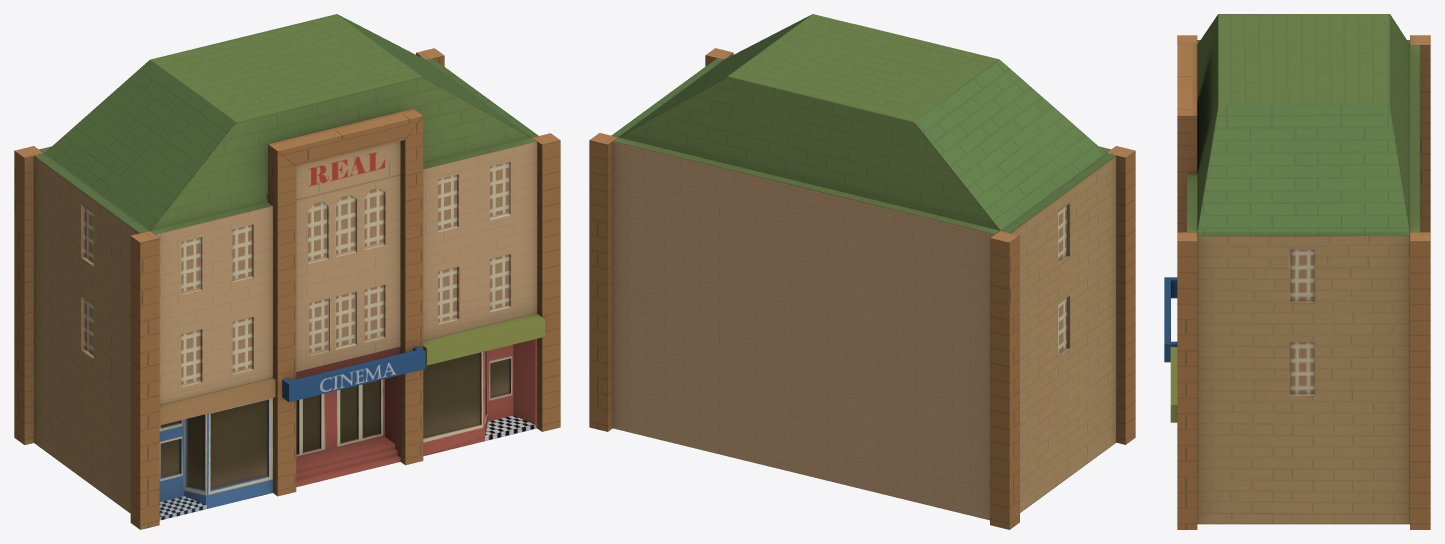
Rendered from cinema.glb.
3 renders of one model, left to right at view 1: azimuth 30°, elevation 25°; view 2: azimuth 150°, elevation 25°; view 3: azimuth 270°, elevation 25°, orthographic.
Visible parts, largest first — view 1: Cinema_mesh; view 2: Cinema_mesh; view 3: Cinema_mesh.
Boxes of the visible parts, x1=… form: Cinema_mesh: x1=14, y1=14, x2=560, y2=529; Cinema_mesh: x1=589, y1=14, x2=1135, y2=529; Cinema_mesh: x1=1164, y1=14, x2=1430, y2=529.
Size of the model in its own units: 22.94 by 19.03 by 12.53.
Materials: 1 (1 with a texture image).
